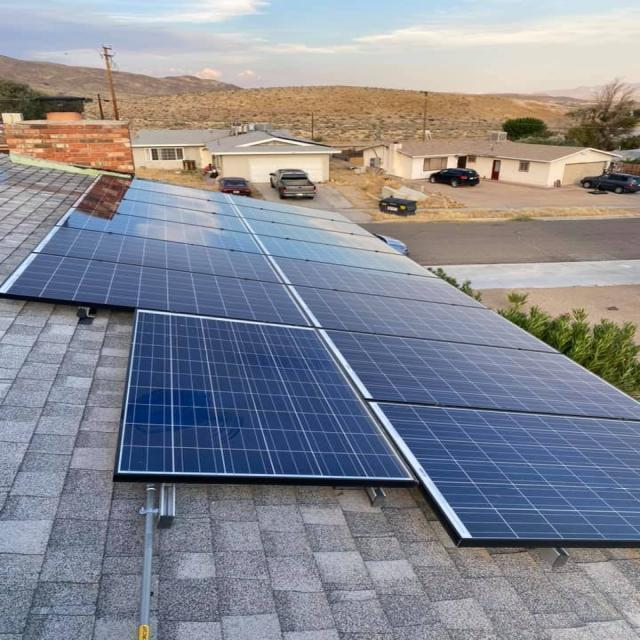Surface Contaminant: (270, 254, 639, 541), (3, 223, 405, 478)
